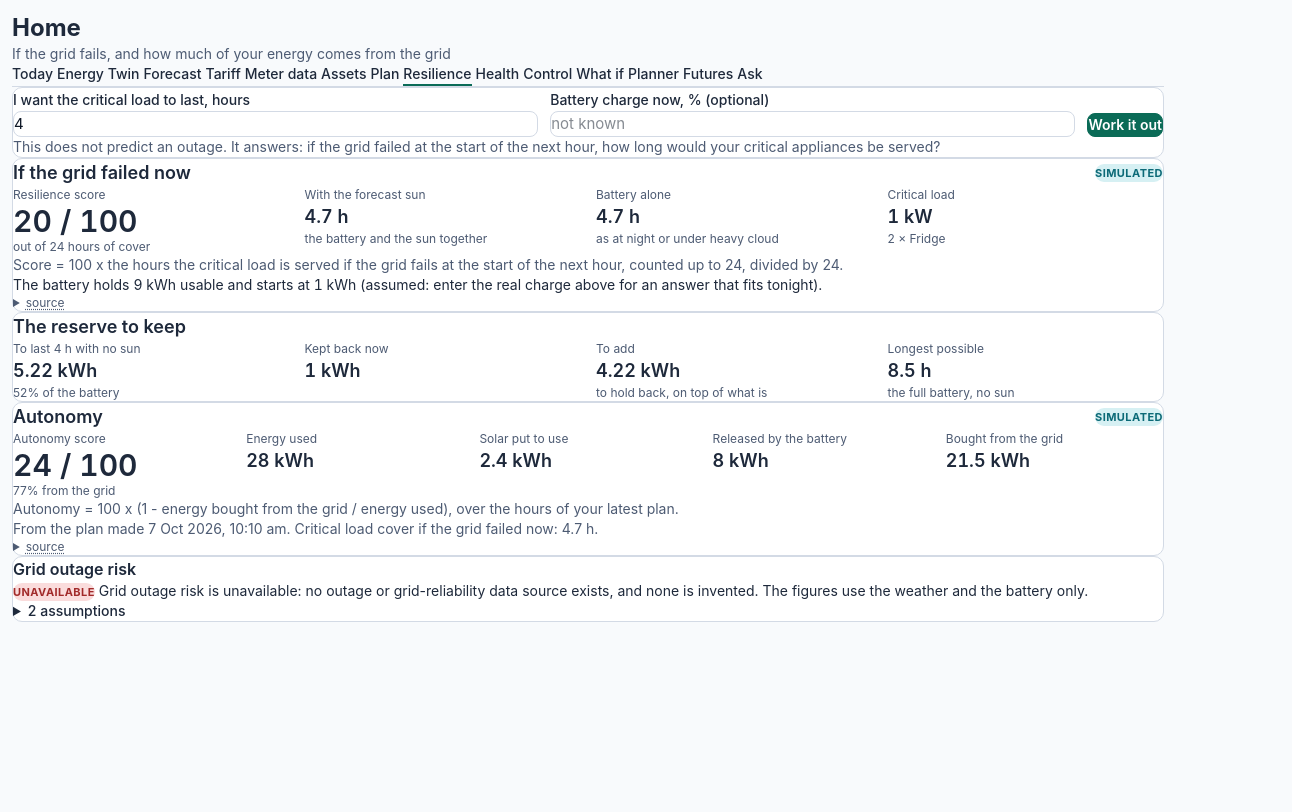
Test: ResilienceView › does not ask the server for a time or a charge that is not one
The image size is (1292, 812).
Expected: the element "If the grid failed now" is shown, [12,158,1164,312]
Replace the text in the field labelled "I want the critical load to last, hours" with "30": x=276, y=124 [13,111,538,137]
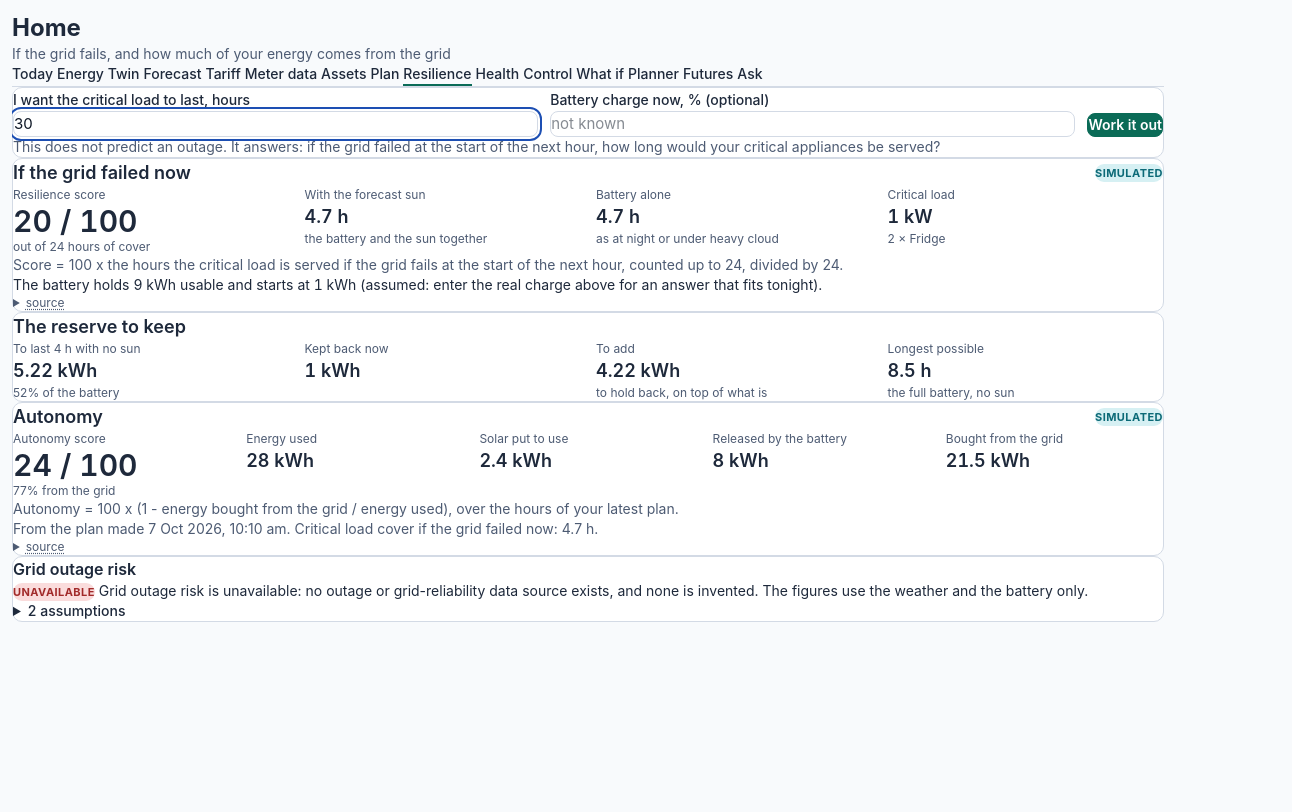
Click the button "Work it out": x=1125, y=125 [1087,113,1163,136]
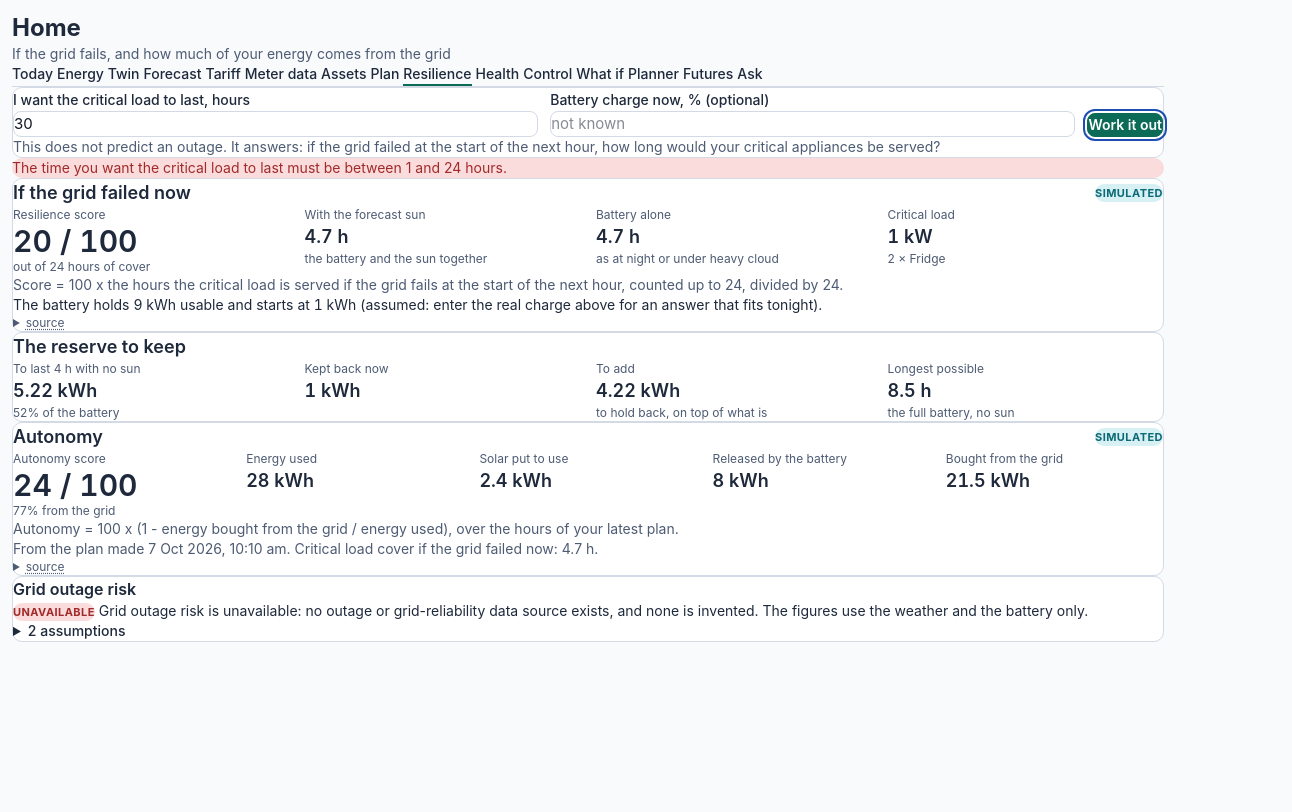
Result: the message shows "must be between 1 and 24 hours" at [12,158,507,176]
Replace the text in the field labelled "I want the critical load to last, hours" with "4": x=276, y=124 [13,111,538,137]
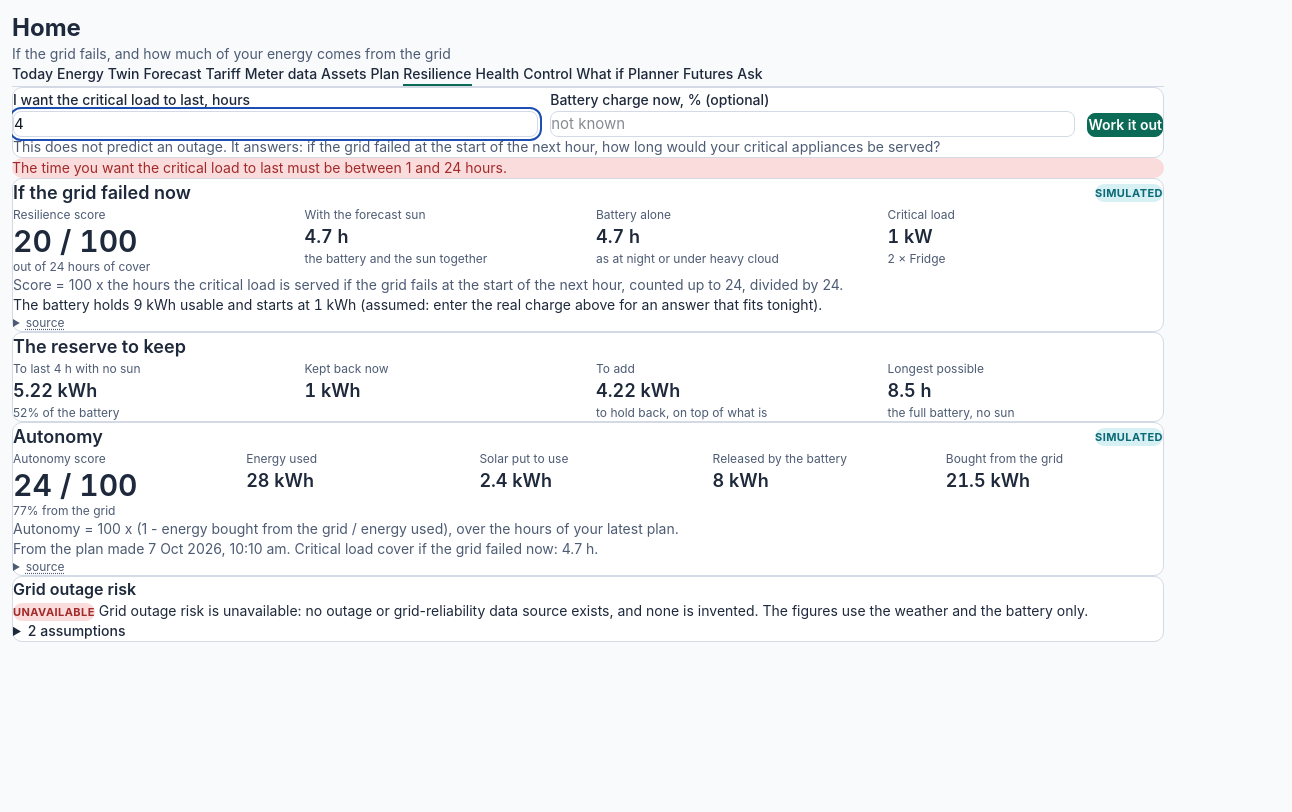
In the field labelled "Battery charge now, % (optional)": x=813, y=124 [550,111,1075,137], type "150"
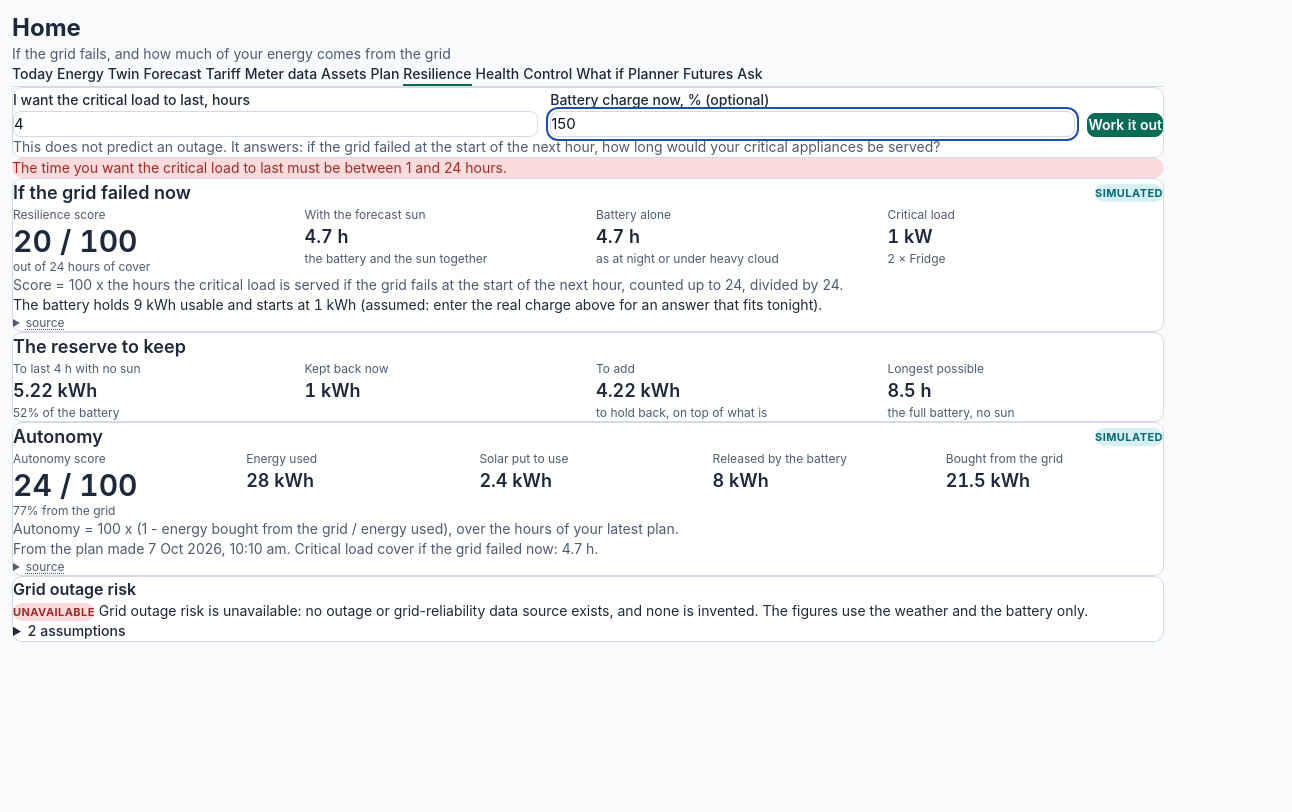
Click the button "Work it out": x=1125, y=125 [1087,113,1163,136]
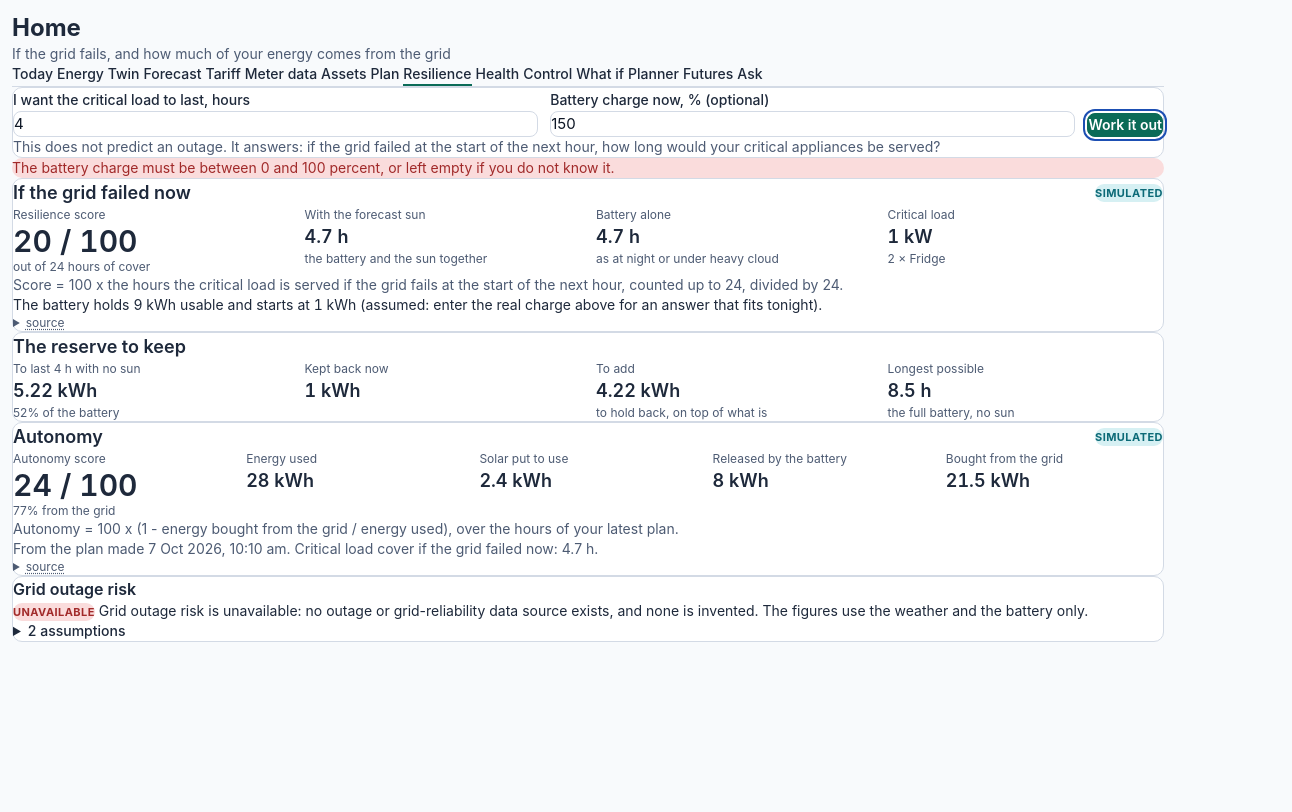
Result: the message shows "The battery charge must be between 0 and 100 percent" at [12,158,614,176]
